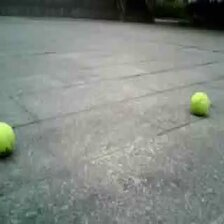tennis: (1, 120, 18, 154), (192, 93, 211, 116)
